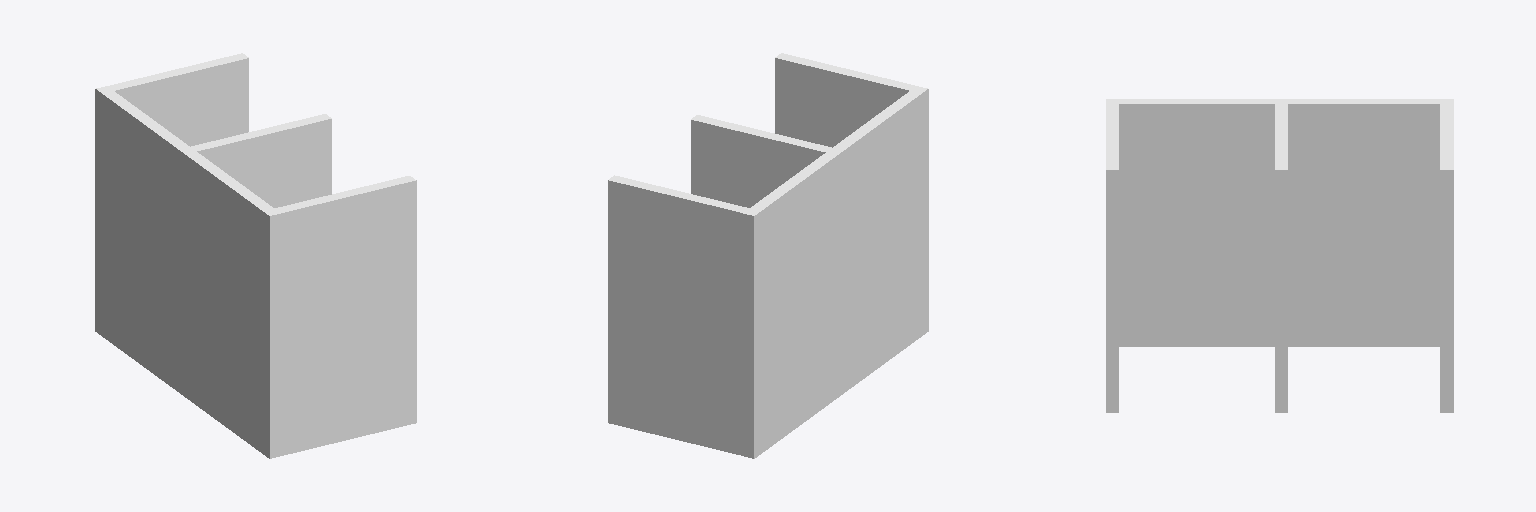
The picture shows the model from 3 angles: view 1: azimuth 30°, elevation 25°; view 2: azimuth 150°, elevation 25°; view 3: azimuth 270°, elevation 25°; orthographic projection.
Parts seen in each view (by area): view 1: wall_1_4, wall_2_10, wall_4_22, wall_3_16, wall_1_6, wall_1_5; view 2: wall_1_4, wall_3_15, wall_2_9, wall_4_21, wall_1_3, wall_1_6, wall_1_5; view 3: wall_1_3, wall_2_10, wall_3_15, wall_3_16, wall_4_21, wall_2_9, wall_4_22, wall_1_6, wall_1_5.
Boxes of the visible parts, box(x1,y1,x2,y2) form: wall_1_4: box(95, 89, 269, 458); wall_2_10: box(270, 180, 416, 458); wall_4_22: box(197, 119, 331, 207); wall_3_16: box(115, 58, 248, 146); wall_1_6: box(96, 87, 271, 215); wall_1_5: box(102, 86, 273, 211); wall_1_4: box(749, 89, 928, 458); wall_3_15: box(608, 180, 742, 455); wall_2_9: box(775, 58, 908, 147); wall_4_21: box(691, 120, 825, 207); wall_1_3: box(743, 214, 748, 457); wall_1_6: box(749, 89, 926, 215); wall_1_5: box(743, 90, 917, 214); wall_1_3: box(1119, 104, 1439, 346); wall_2_10: box(1106, 170, 1112, 412); wall_3_15: box(1447, 170, 1453, 412); wall_3_16: box(1440, 170, 1446, 412); wall_4_21: box(1281, 170, 1287, 412); wall_2_9: box(1113, 170, 1118, 412); wall_4_22: box(1275, 170, 1280, 412); wall_1_6: box(1108, 99, 1453, 101); wall_1_5: box(1115, 102, 1453, 103).
Bounding box in the file's own units: 96.52 × 152 × 198.